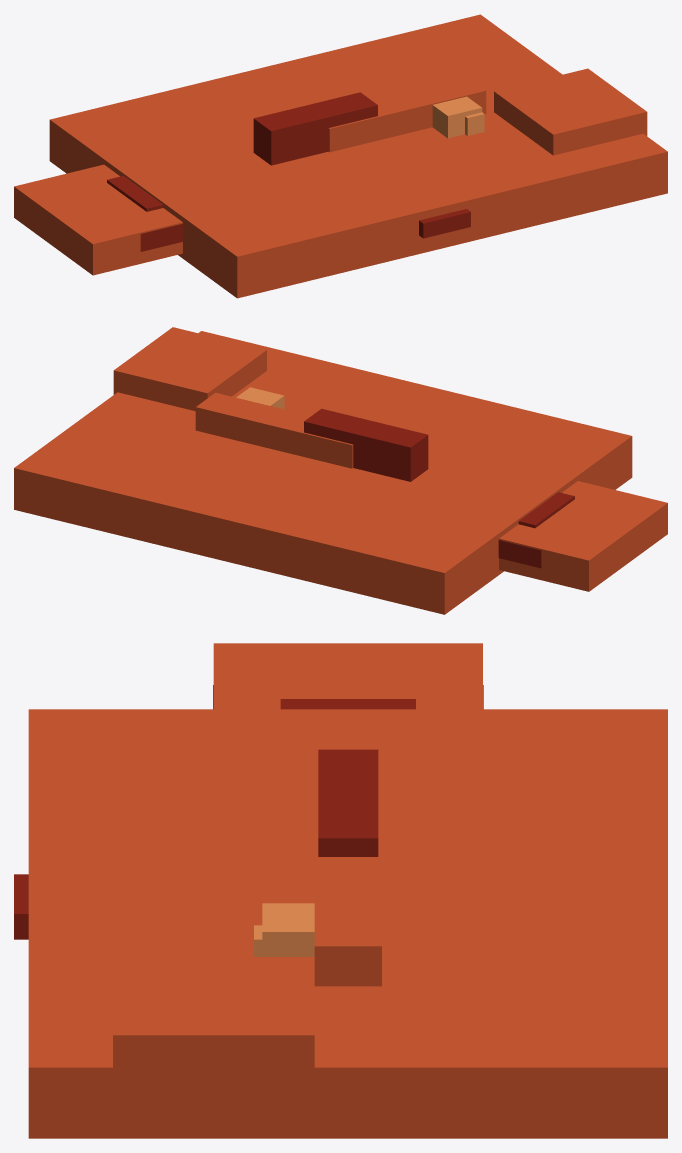
The model's file is fish_ember_ray.glb.
3 views of the same model, one above another, from view 1: azimuth 30°, elevation 25°; view 2: azimuth 150°, elevation 25°; view 3: azimuth 270°, elevation 25° (orthographic). The views are drawn at different scales.
Parts seen in each view (by area): view 1: FishArt_body, FishArt_dorsal, FishArt_eye, FishArt_tail, FishArt_pectoral; view 2: FishArt_body, FishArt_dorsal, FishArt_tail, FishArt_eye; view 3: FishArt_body, FishArt_dorsal, FishArt_eye, FishArt_tail, FishArt_pectoral.
Boxes of the visible parts, bbox=[...] form: FishArt_body: bbox=[14, 14, 667, 298]; FishArt_dorsal: bbox=[253, 92, 377, 165]; FishArt_eye: bbox=[432, 96, 484, 138]; FishArt_tail: bbox=[107, 176, 183, 251]; FishArt_pectoral: bbox=[419, 209, 470, 238]; FishArt_body: bbox=[14, 327, 667, 614]; FishArt_dorsal: bbox=[304, 408, 428, 481]; FishArt_tail: bbox=[498, 492, 574, 568]; FishArt_eye: bbox=[236, 387, 284, 409]; FishArt_body: bbox=[28, 643, 667, 1138]; FishArt_dorsal: bbox=[318, 749, 378, 856]; FishArt_eye: bbox=[254, 903, 314, 956]; FishArt_tail: bbox=[213, 685, 483, 709]; FishArt_pectoral: bbox=[14, 874, 28, 939].
Bounding box in the file's own units: 0.33 × 0.0534 × 0.2089.
